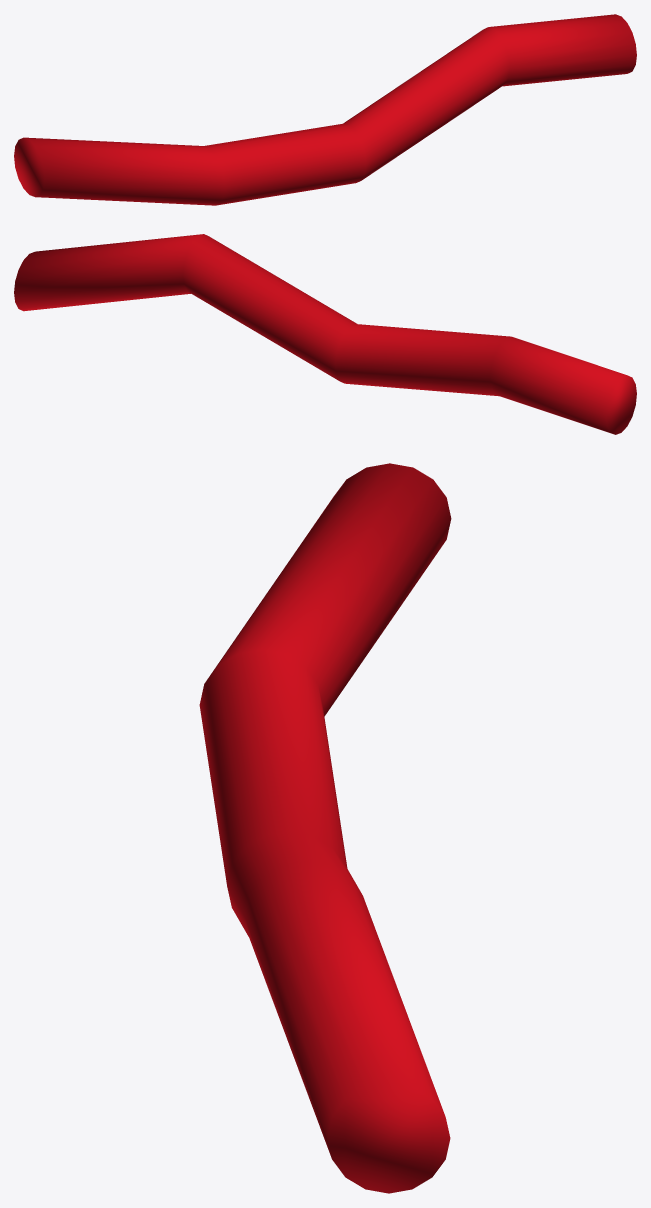
File: cable4.glb
3 views of the same model, one above another, from view 1: azimuth 30°, elevation 25°; view 2: azimuth 150°, elevation 25°; view 3: azimuth 270°, elevation 25° (orthographic). The views are drawn at different scales.
Parts seen in each view (by area): view 1: cable4; view 2: cable4; view 3: cable4.
Part boxes in pixels (x1,y1,x2,y2): cable4: [14, 14, 636, 205]; cable4: [14, 234, 636, 434]; cable4: [199, 463, 451, 1193].
Size of the model in its own units: 2 by 0.3625 by 0.3683.
